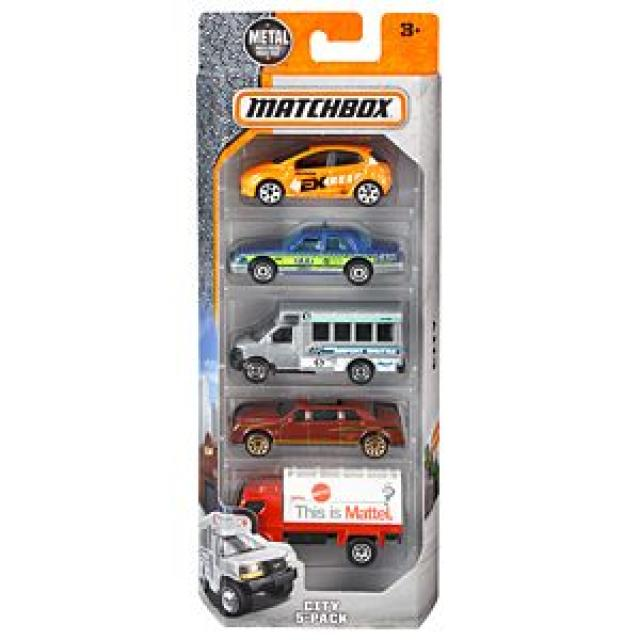Car: (226, 218, 405, 284), (228, 396, 406, 458), (239, 141, 392, 205)
